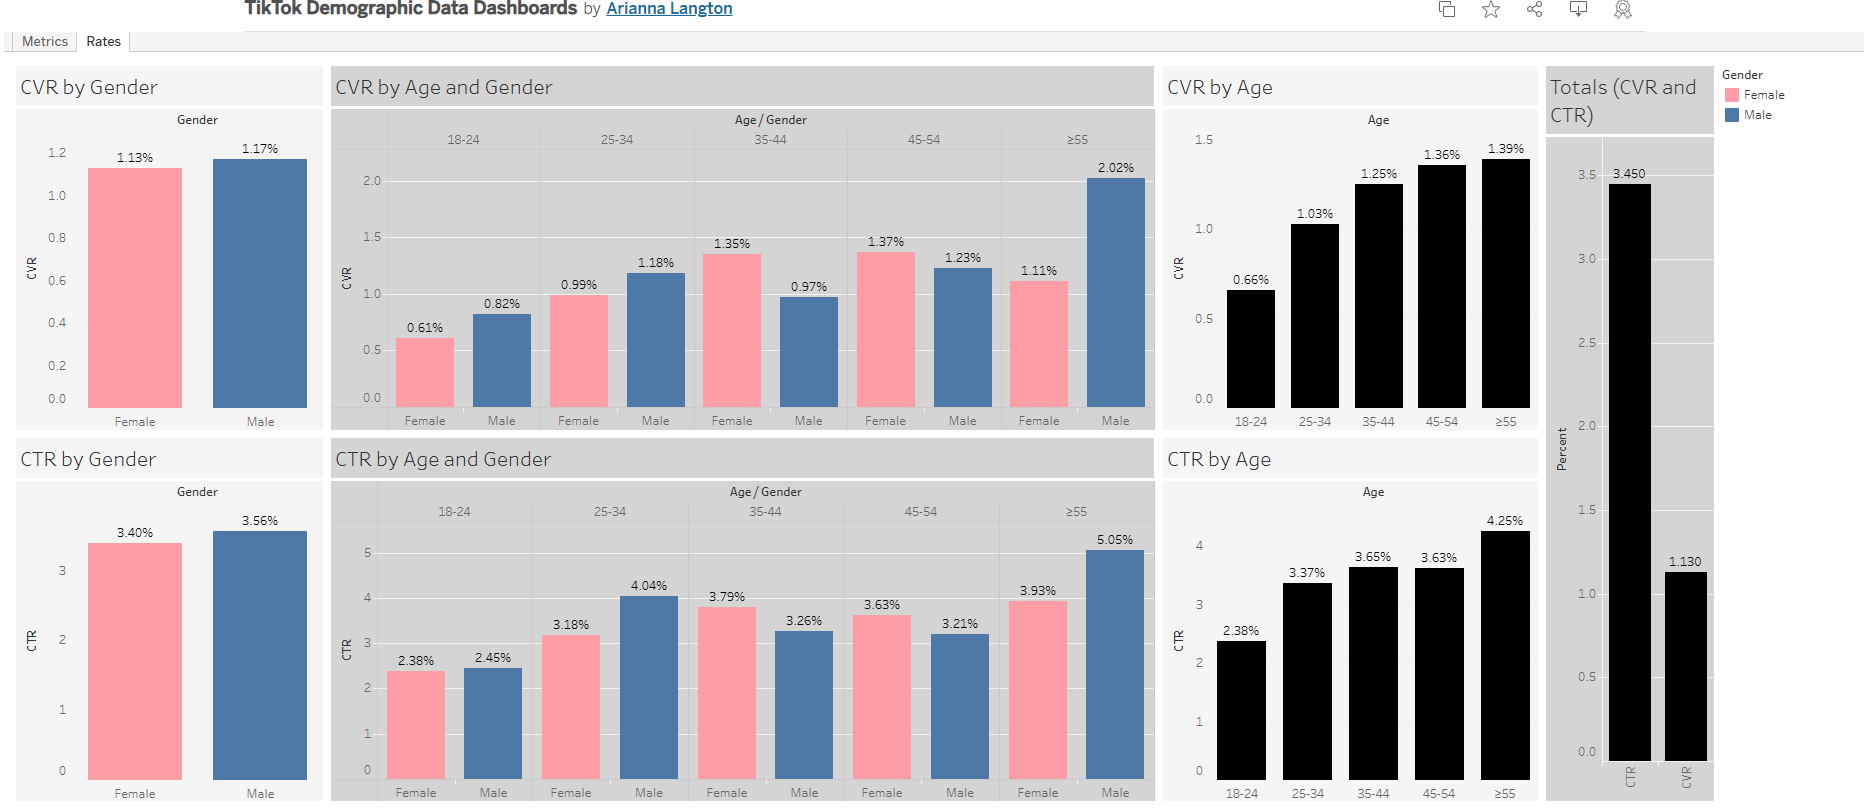

The dashboard page shown, as its layout file describes it:
{"tool":"tableau","page":{"name":"Dashboard 2","canvas":[1000,1000],"units":"permille","ordinal":0},"visuals":[{"type":"image","param":"Image/league_logo3.jpg","box":[5.2,8.3,230.2,219.8]},{"type":"text","box":[235.4,8.3,758.2,100]},{"type":"text","box":[235.4,108.4,758.2,42.1]},{"type":"image","param":"Image/top.png","box":[236,151.5,71,75.6]},{"type":"text","box":[307,151.5,80.5,75.6]},{"type":"image","param":"Image/jungle.png","box":[388.8,151.5,69.7,75.6]},{"type":"text","box":[458.5,151.5,61.3,75.6]},{"type":"image","param":"Image/mid.png","box":[531.9,151.5,78.1,75.6]},{"type":"text","box":[609.9,151.5,76.6,75.6]},{"type":"image","param":"Image/supp.png","box":[687.9,151.5,81.9,75.6]},{"type":"text","box":[769.8,151.5,69,75.6]},{"type":"image","param":"Image/bottom.png","box":[840.1,151.5,43.8,75.6]},{"type":"text","box":[883.9,151.5,109,75.6]},{"type":"worksheet","title":"Sheet 1","mark":"Automatic","rows":["Name"],"cols":["Pick %","Pick %"],"box":[5.2,228.2,352.6,381.8]},{"type":"worksheet","title":"Sheet 2","mark":"Automatic","rows":["Name","Role"],"cols":["Win %","Win %"],"box":[357.8,228.2,419,381.8]},{"type":"worksheet","title":"Sheet 4","mark":"Shape","rows":["Name"],"cols":["Role"],"box":[776.8,228.2,218.1,763.5]},{"type":"worksheet","title":"Sheet 3","mark":"Automatic","rows":["Name"],"cols":["Ban %","Ban %"],"box":[5.2,609.9,352.6,381.8]},{"type":"worksheet","title":"Sheet 5","mark":"Automatic","rows":["Role"],"cols":["Win %","Win %"],"box":[357.8,609.9,419,381.8]}]}

Visuals, with their boxes on the dashboard's canvas, which has no fixed pixel size, in thousandths of its width and height (x1, y1, x2, y2). These are canvas units, not pixel positions in the 1864x810 screenshot, which may show the page scaled, cropped or inside an application window:
image: locate(5, 8, 235, 228)
text: locate(235, 8, 994, 108)
text: locate(235, 108, 994, 150)
image: locate(236, 152, 307, 227)
text: locate(307, 152, 388, 227)
image: locate(389, 152, 458, 227)
text: locate(458, 152, 520, 227)
image: locate(532, 152, 610, 227)
text: locate(610, 152, 686, 227)
image: locate(688, 152, 770, 227)
text: locate(770, 152, 839, 227)
image: locate(840, 152, 884, 227)
text: locate(884, 152, 993, 227)
"Sheet 1" worksheet: locate(5, 228, 358, 610)
"Sheet 2" worksheet: locate(358, 228, 777, 610)
"Sheet 4" worksheet (Shape marks): locate(777, 228, 995, 992)
"Sheet 3" worksheet: locate(5, 610, 358, 992)
"Sheet 5" worksheet: locate(358, 610, 777, 992)
